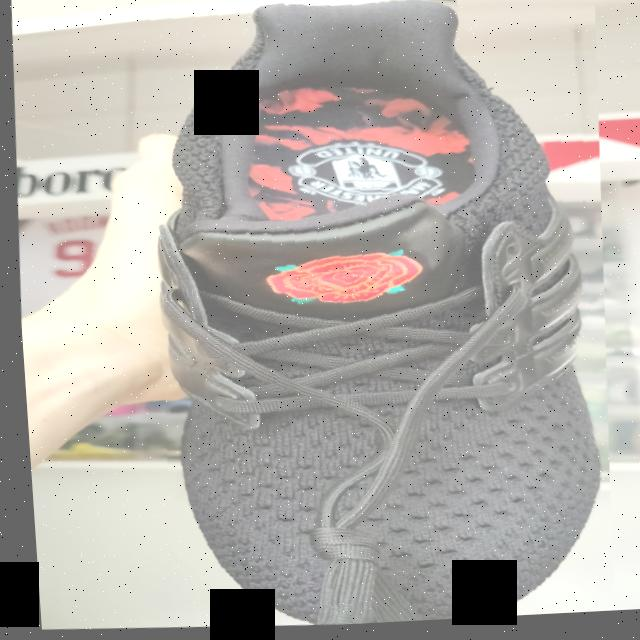shoe: (115, 0, 627, 635)
